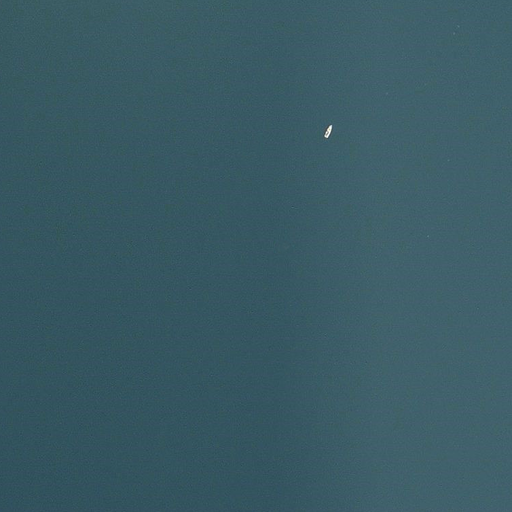ship: (322, 123, 334, 139)
